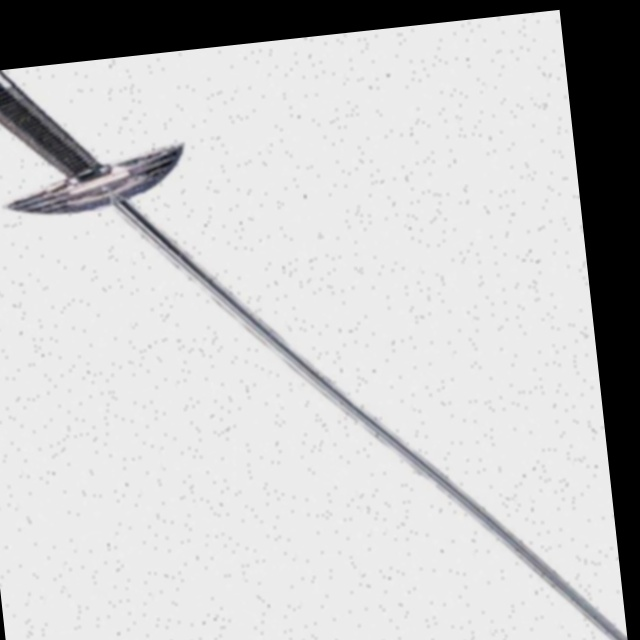Sharp-Object: (24, 89, 628, 640)
